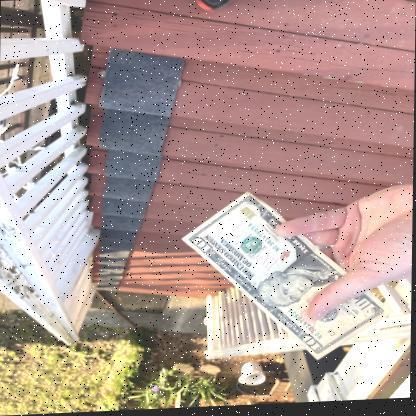dollar_front: (181, 192, 394, 362)
